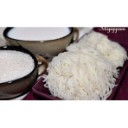idiyappam: (50, 52, 113, 99), (73, 32, 127, 67)
